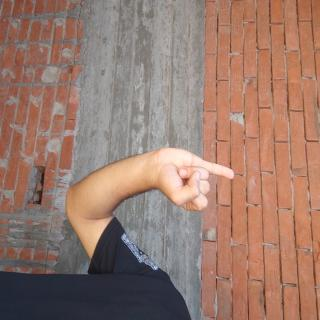MEEM: (106, 108, 161, 226)
